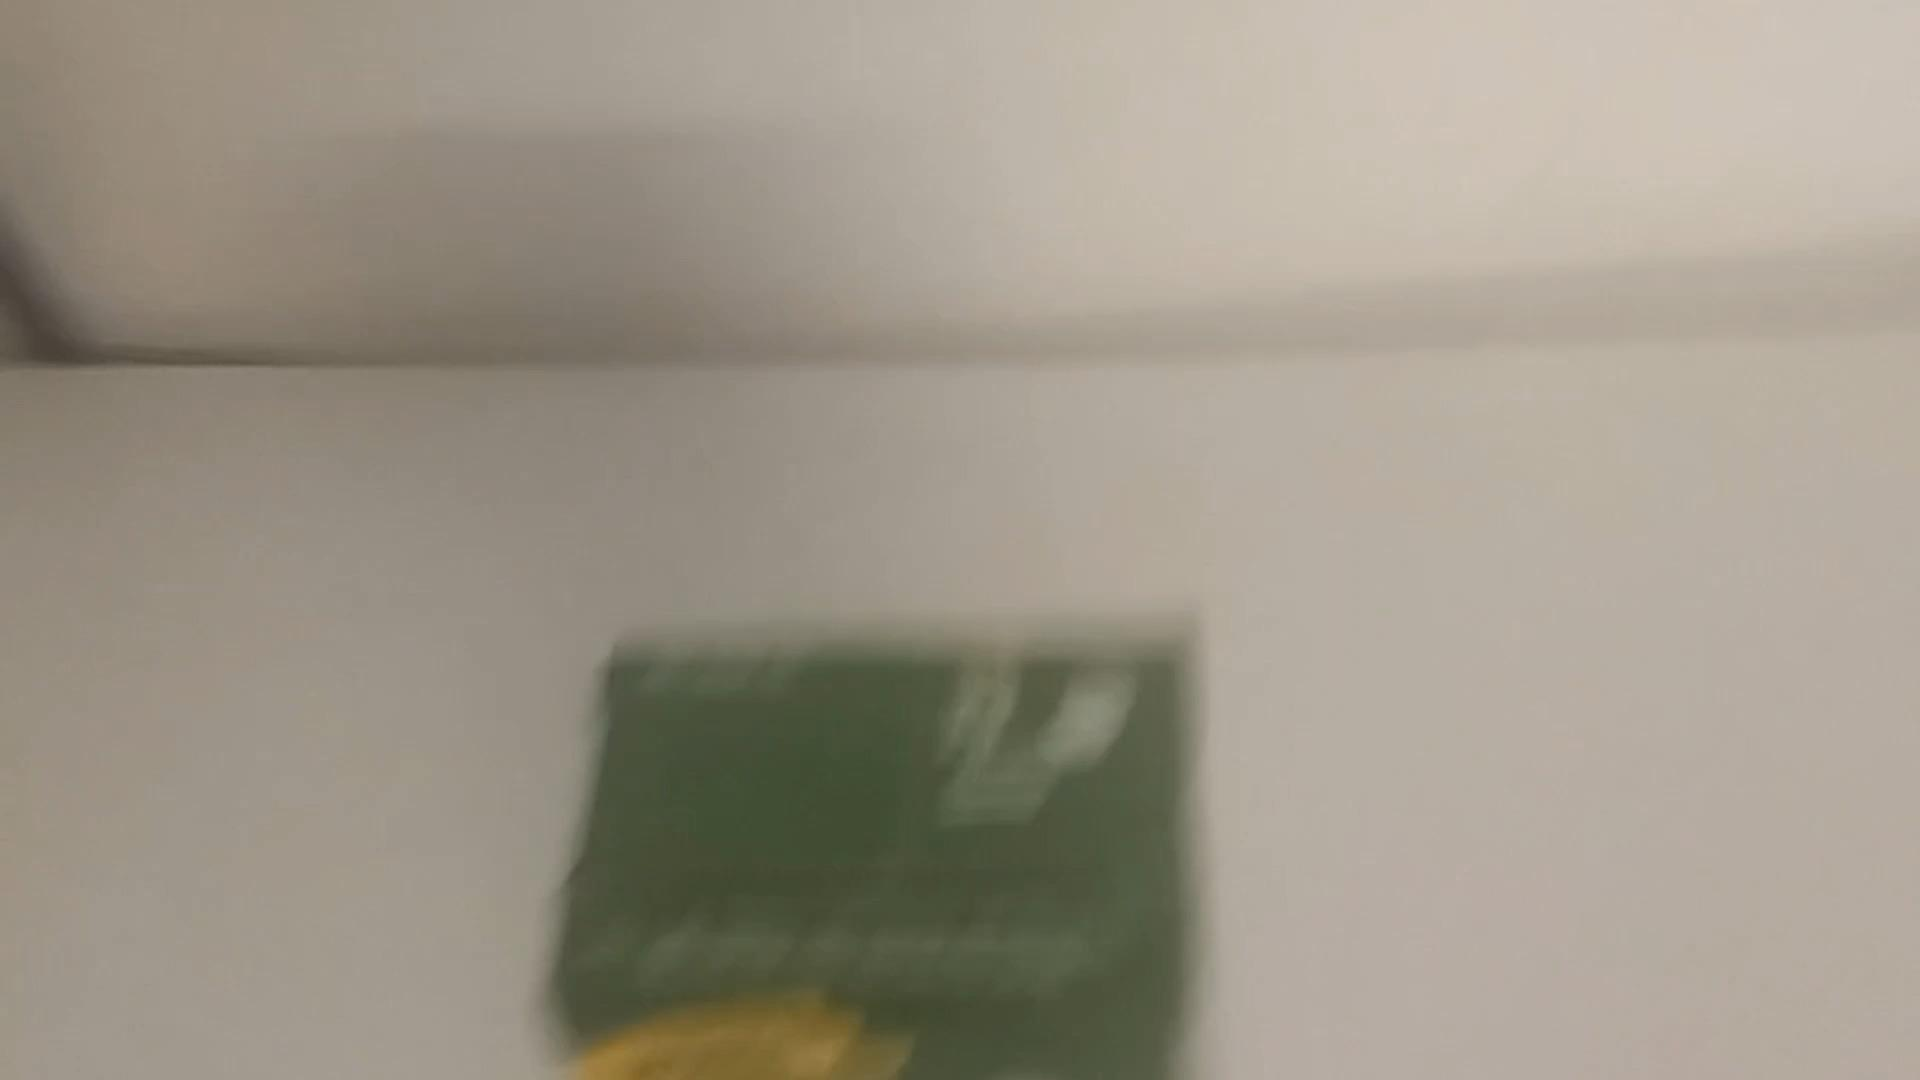coco: (535, 633, 1230, 1080)
